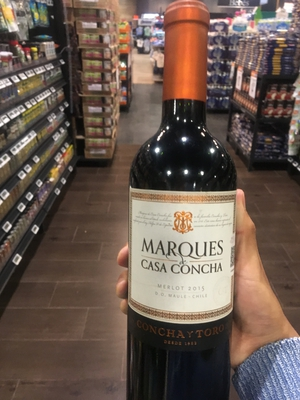marques de casa concha merlot: (125, 9, 238, 400)
